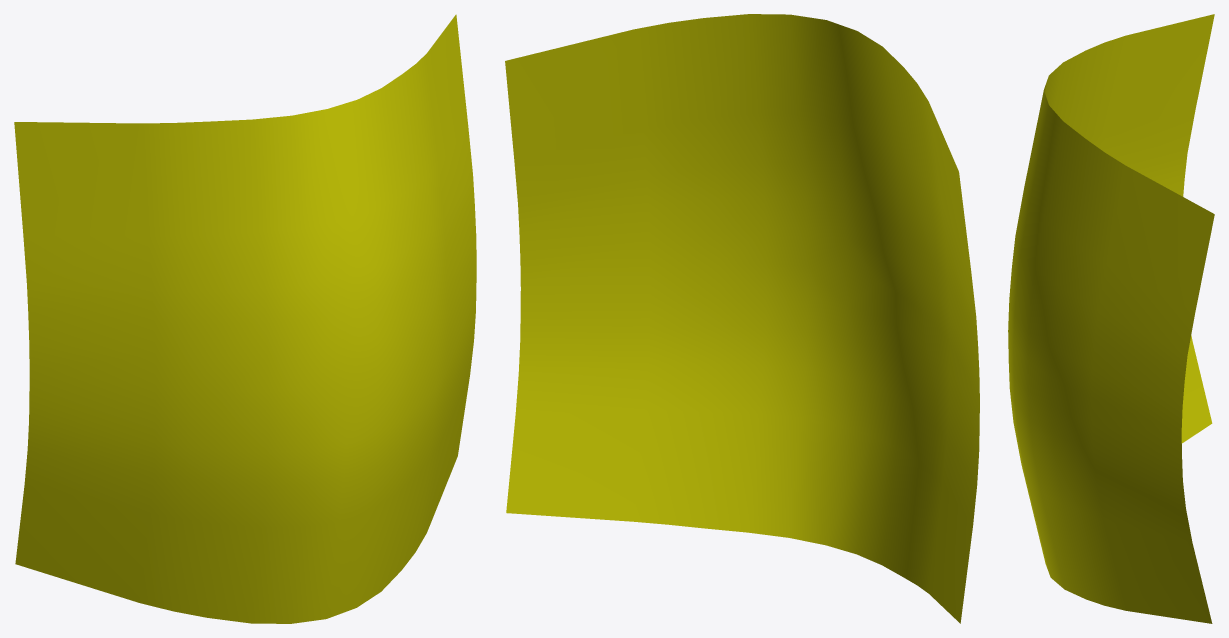
File: Mask_5.glb
3 renders of one model, left to right at view 1: azimuth 30°, elevation 25°; view 2: azimuth 150°, elevation 25°; view 3: azimuth 270°, elevation 25°, orthographic. The views are drawn at different scales.
Bounding box in the file's own units: 91.85 × 100 × 39.63.
